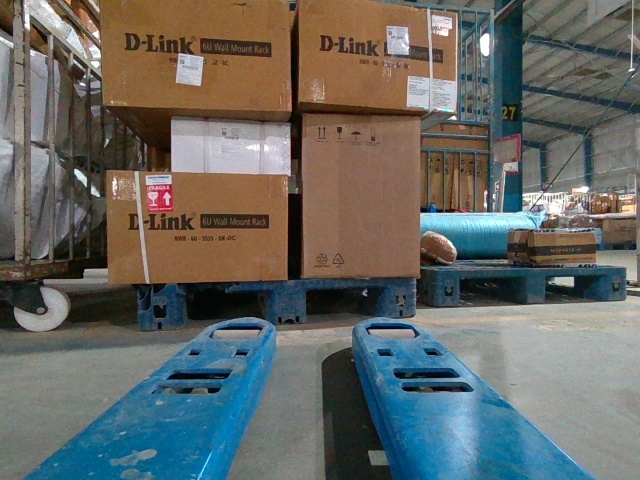block: (137, 281, 186, 332), (268, 279, 308, 324), (385, 277, 417, 317), (432, 268, 462, 305), (604, 265, 627, 300), (524, 268, 545, 302)
front: (138, 277, 416, 328), (436, 266, 627, 306)
hole pallet: (183, 286, 273, 325), (303, 281, 388, 318), (543, 269, 607, 302), (457, 272, 527, 301)
